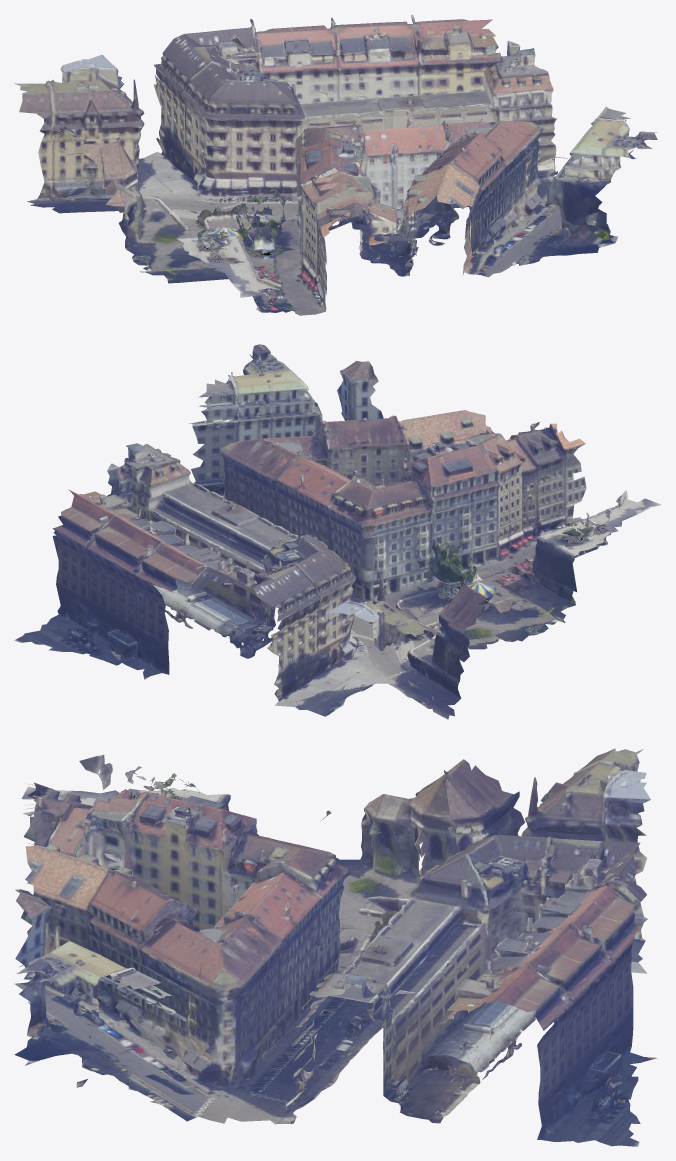
3 views of the same model, one above another, from view 1: azimuth 30°, elevation 25°; view 2: azimuth 150°, elevation 25°; view 3: azimuth 270°, elevation 25° (orthographic). The views are drawn at different scales.
Size of the model in its own units: 108 by 33.3 by 109.
Materials: 1 (1 with a texture image).
